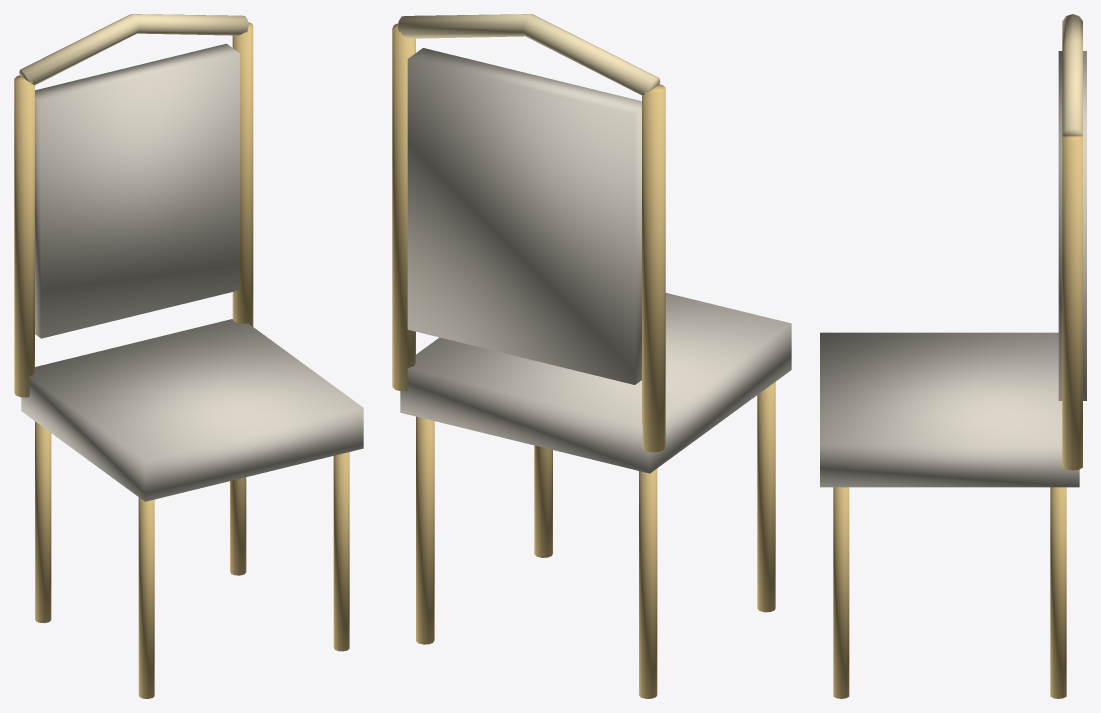
File: guest-chair.glb
The picture shows the model from 3 angles, left to right: view 1: azimuth 30°, elevation 25°; view 2: azimuth 150°, elevation 25°; view 3: azimuth 270°, elevation 25°; orthographic projection. The views are drawn at different scales.
Parts seen in each view (by area): view 1: back-cushion-1, cushion-0, legs-2, back-frame-3, back-frame-4; view 2: back-cushion-1, cushion-0, legs-2, back-frame-3, back-frame-4; view 3: cushion-0, legs-2, back-frame-3, back-cushion-1, back-frame-4.
Boxes of the visible parts, box(x1,y1,x2,y2) form: back-cushion-1: box(35, 43, 239, 338); cushion-0: box(21, 319, 363, 501); legs-2: box(35, 421, 349, 698); back-frame-3: box(14, 22, 253, 397); back-frame-4: box(19, 14, 248, 85); back-cushion-1: box(407, 48, 641, 384); cushion-0: box(400, 293, 791, 473); legs-2: box(416, 382, 775, 698); back-frame-3: box(392, 23, 665, 452); back-frame-4: box(398, 14, 660, 95); cushion-0: box(820, 332, 1079, 487); legs-2: box(833, 487, 1066, 698); back-frame-3: box(1062, 136, 1082, 470); back-cushion-1: box(1058, 51, 1086, 400); back-frame-4: box(1062, 14, 1082, 136).
Size of the model in its own units: 0.606 by 1.41 by 0.565.
